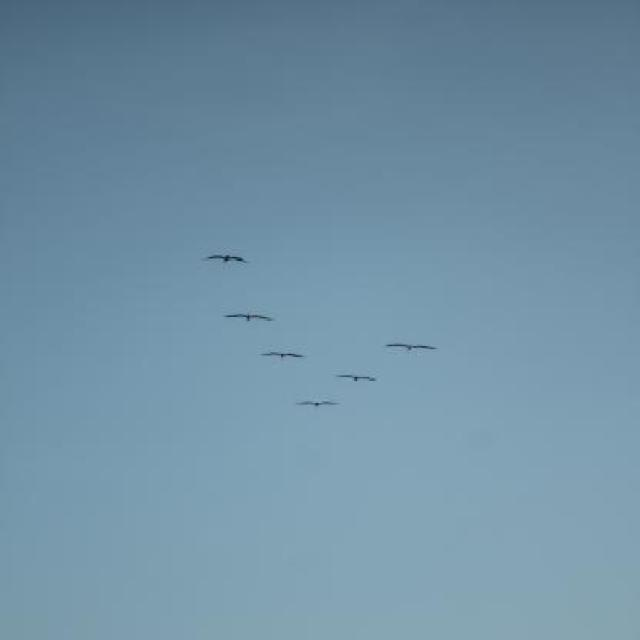bird: (383, 344, 439, 354), (202, 253, 249, 264), (224, 314, 276, 323), (260, 352, 308, 360), (334, 375, 377, 383), (297, 402, 340, 409)
